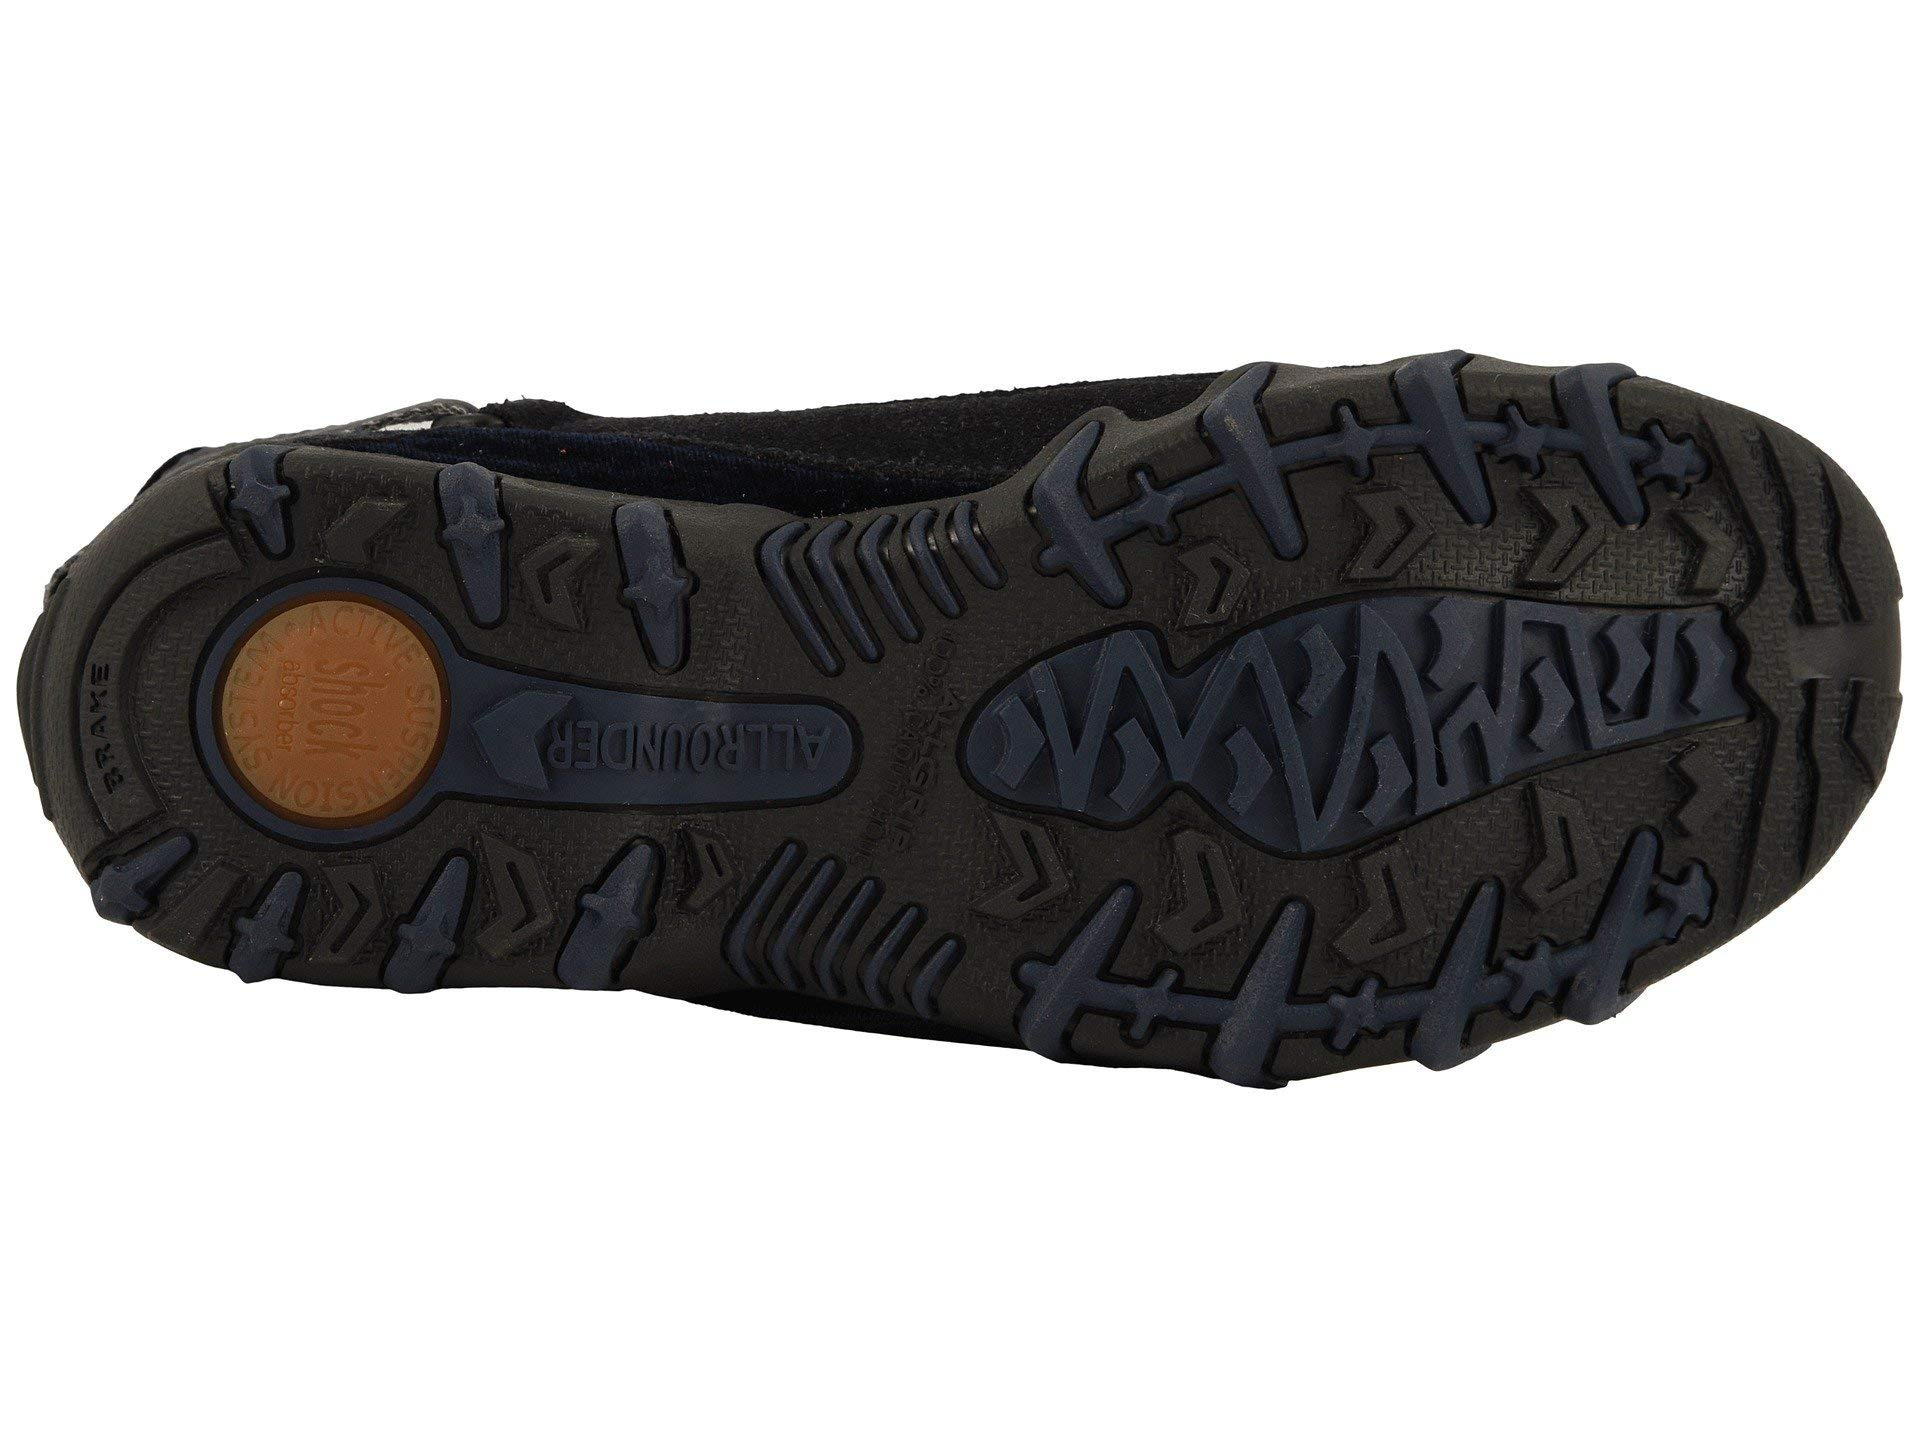chevron: (1270, 570, 1642, 956), (473, 638, 866, 849), (974, 622, 1265, 858)
circle: (206, 557, 463, 849)
text: (473, 638, 866, 849), (206, 557, 463, 849)
